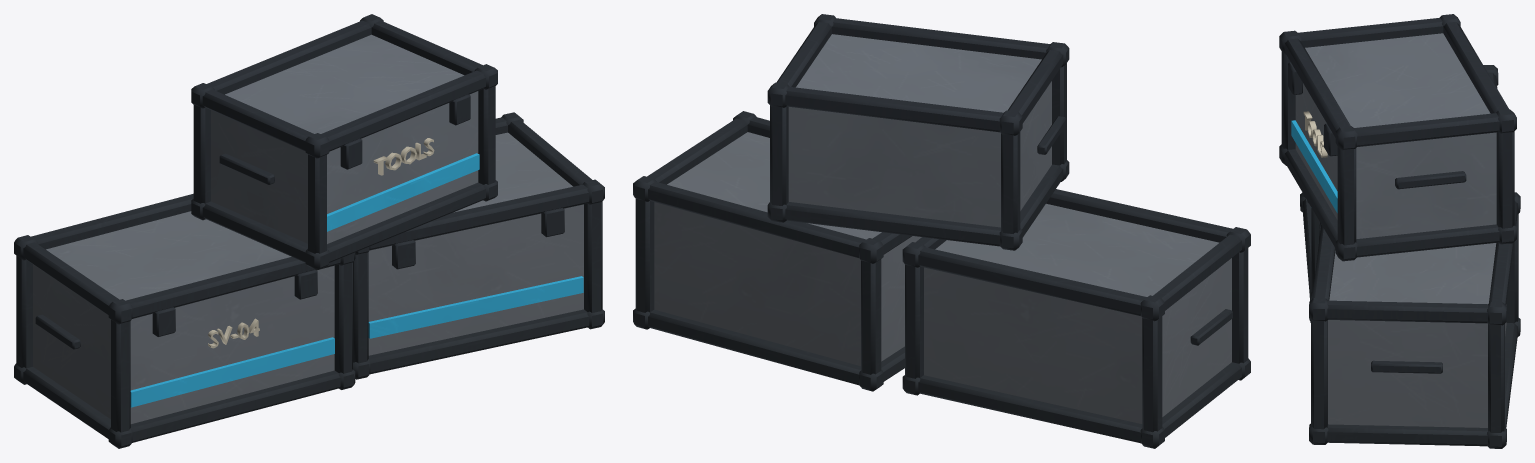
Rendered from crate_salvager_stack.glb.
The picture shows the model from 3 angles, left to right: view 1: azimuth 30°, elevation 25°; view 2: azimuth 150°, elevation 25°; view 3: azimuth 270°, elevation 25°; orthographic projection. The views are drawn at different scales.
Parts seen in each view (by area): view 1: crate_salvager_stack; view 2: crate_salvager_stack; view 3: crate_salvager_stack.
Boxes of the visible parts, bbox=[...] form: crate_salvager_stack: bbox=[14, 14, 604, 448]; crate_salvager_stack: bbox=[633, 14, 1250, 448]; crate_salvager_stack: bbox=[1279, 14, 1520, 448].
Size of the model in its own units: 2.17 by 1.07 by 0.8723.
4 materials, 4 textured.
